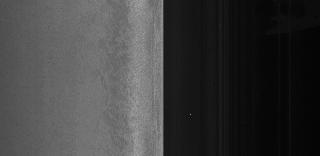silk spot: (107, 61, 141, 116)
